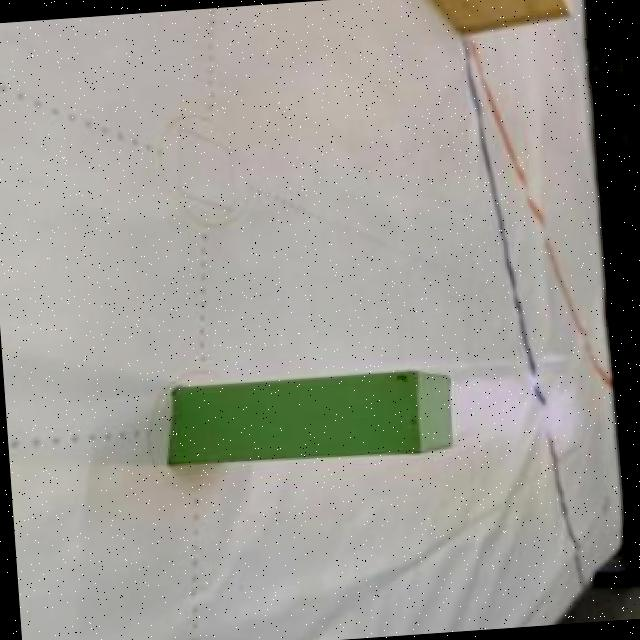greenbox: (162, 363, 458, 472)
